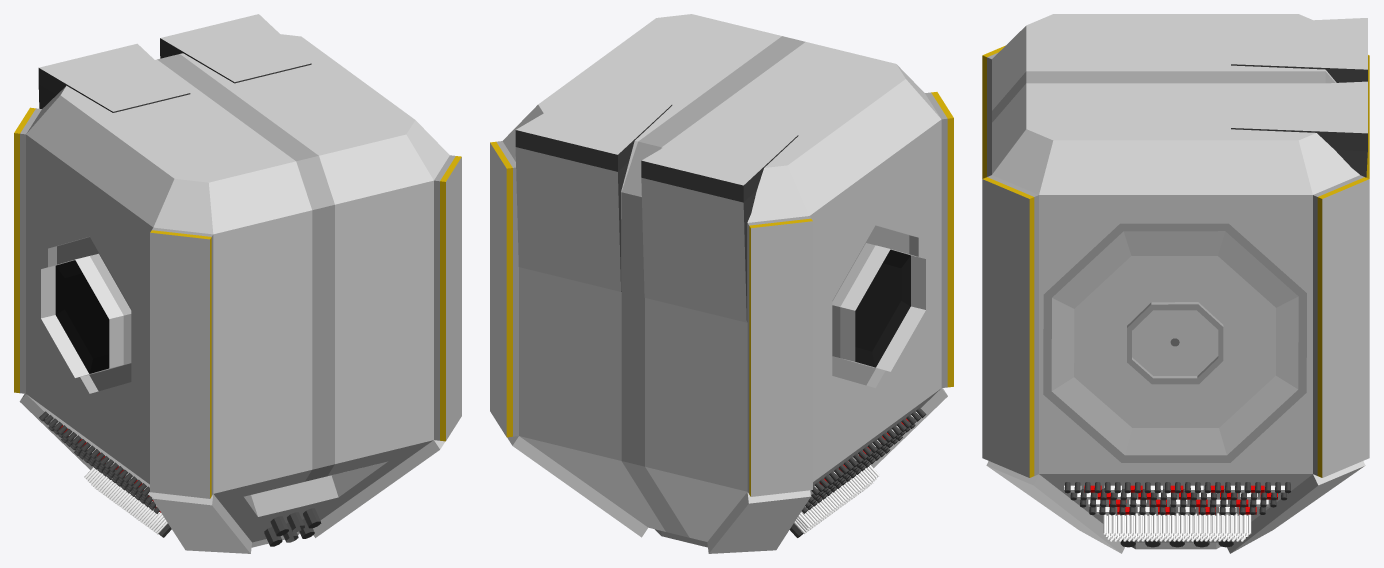
Rendered from Emergency_Capsule.fbx.
3 views of the same model, side by side, from view 1: azimuth 30°, elevation 25°; view 2: azimuth 150°, elevation 25°; view 3: azimuth 270°, elevation 25° (orthographic). The views are drawn at different scales.
Parts seen in each view (by area): view 1: Emergency_Capsule.003, Emergency_Capsule_Lights; view 2: Emergency_Capsule.003, Emergency_Capsule_Lights; view 3: Emergency_Capsule.003, Emergency_Capsule_InnerDoor, Emergency_Capsule_Lights.
Boxes of the visible parts, <box> form: Emergency_Capsule.003: <box>19,14,461,553</box>; Emergency_Capsule_Lights: <box>14,107,461,498</box>; Emergency_Capsule.003: <box>490,14,947,553</box>; Emergency_Capsule_Lights: <box>490,92,953,496</box>; Emergency_Capsule.003: <box>982,14,1369,553</box>; Emergency_Capsule_InnerDoor: <box>1051,231,1298,455</box>; Emergency_Capsule_Lights: <box>982,45,1369,477</box>.
Size of the model in its own units: 329 by 405 by 322.
